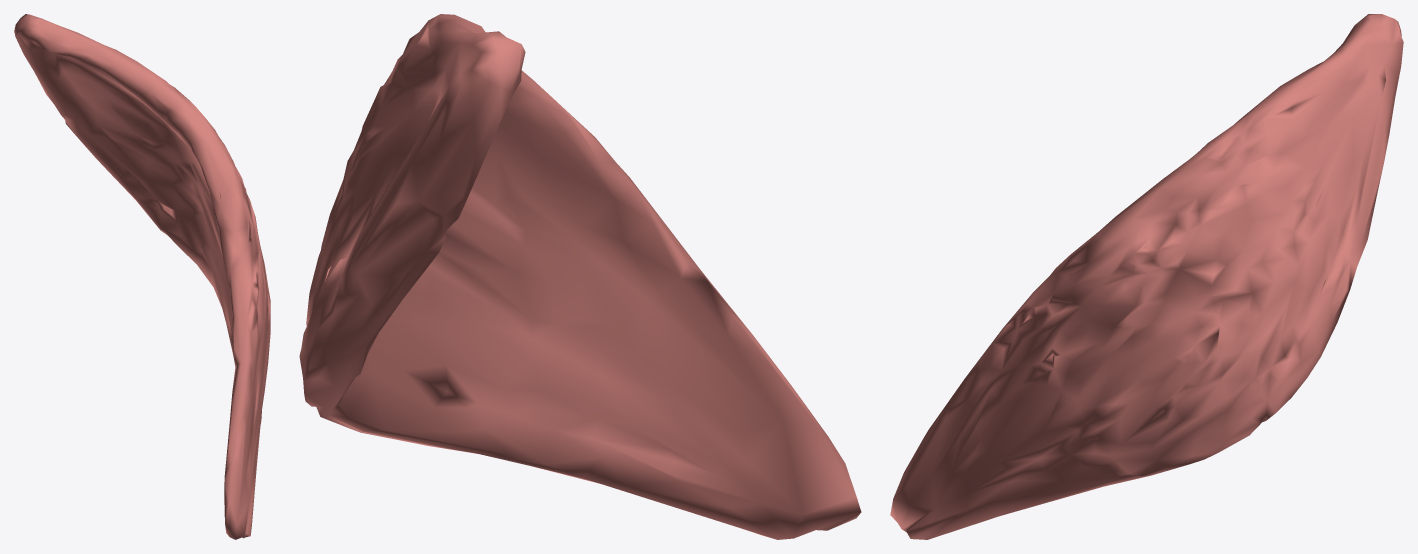
3 renders of one model, left to right at view 1: azimuth 30°, elevation 25°; view 2: azimuth 150°, elevation 25°; view 3: azimuth 270°, elevation 25°, orthographic. The views are drawn at different scales.
Visible parts, largest first — view 1: ZA_53c21450e0e87325; view 2: ZA_53c21450e0e87325; view 3: ZA_53c21450e0e87325.
Part boxes in pixels (<box>): ZA_53c21450e0e87325: <box>14,14,270,539</box>; ZA_53c21450e0e87325: <box>299,14,861,539</box>; ZA_53c21450e0e87325: <box>890,14,1403,539</box>.
Size of the model in its own units: 0.00444 by 0.0107 by 0.00995.
